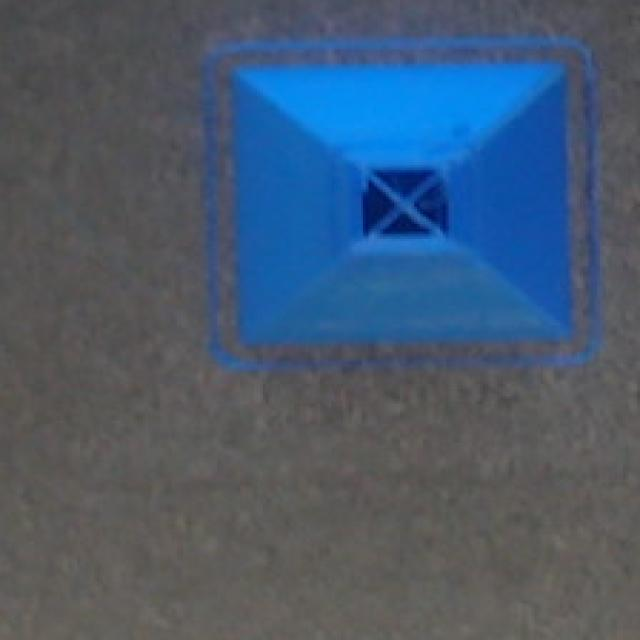mistake: (209, 39, 597, 364)
